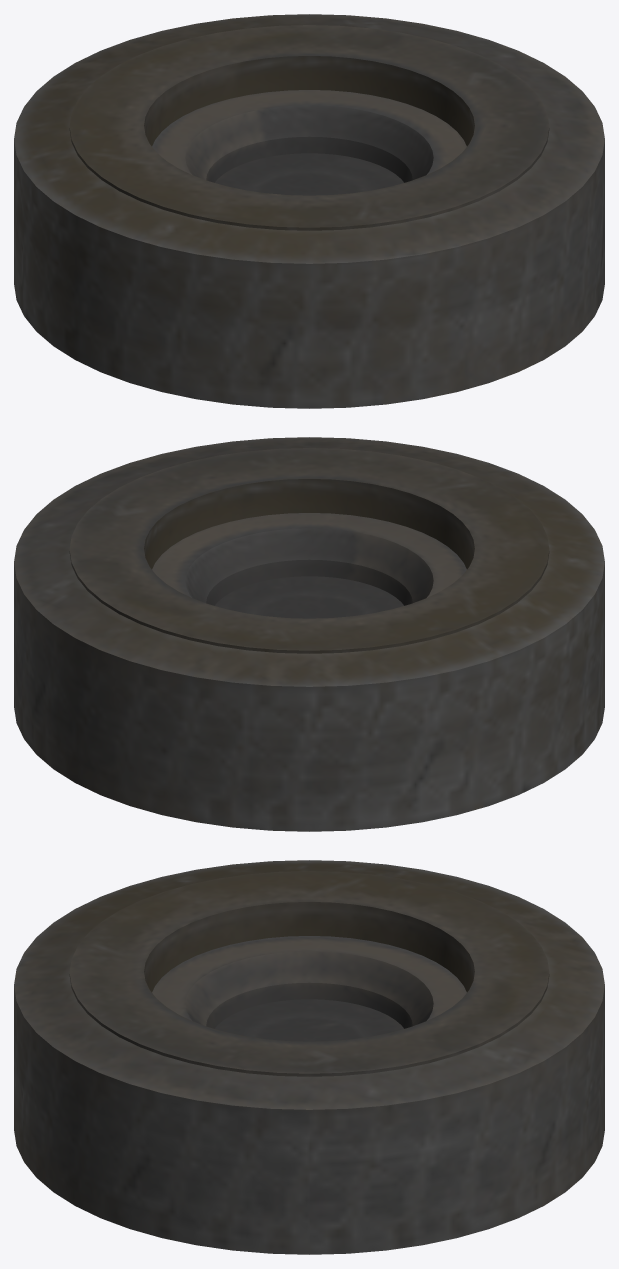
Rendered from SM_ForkliftWheel2.fbx.
3 renders of one model, top to bottom at view 1: azimuth 30°, elevation 25°; view 2: azimuth 150°, elevation 25°; view 3: azimuth 270°, elevation 25°, orthographic.
Visible parts, largest first — view 1: SM_ForkliftWheel2_LOD0; view 2: SM_ForkliftWheel2_LOD0; view 3: SM_ForkliftWheel2_LOD0.
Boxes of the visible parts, x1,y1,x2,y2 form: SM_ForkliftWheel2_LOD0: [14, 14, 604, 408]; SM_ForkliftWheel2_LOD0: [14, 437, 604, 831]; SM_ForkliftWheel2_LOD0: [14, 860, 604, 1254].
Size of the model in its own units: 85.54 by 85.54 by 28.14.
